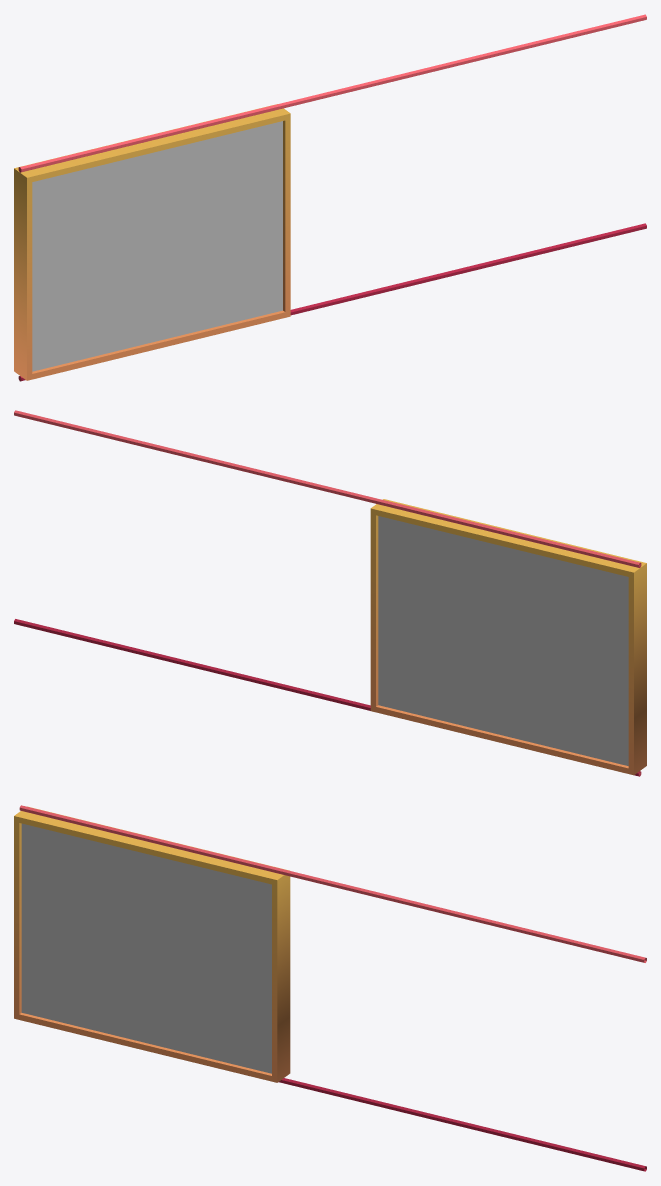
Rendered from SM_HangingSign_BathTub.fbx.
3 renders of one model, top to bottom at view 1: azimuth 30°, elevation 25°; view 2: azimuth 150°, elevation 25°; view 3: azimuth 330°, elevation 25°, orthographic.
Parts seen in each view (by area): view 1: SM_HangingSign_BathTub; view 2: SM_HangingSign_BathTub; view 3: SM_HangingSign_BathTub.
Part boxes in pixels (box(x1,y1,x2,y2)): SM_HangingSign_BathTub: box(14, 14, 646, 381); SM_HangingSign_BathTub: box(14, 410, 646, 776); SM_HangingSign_BathTub: box(14, 805, 646, 1171).
Bounding box in the file's own units: 296 × 96.94 × 10.69.
